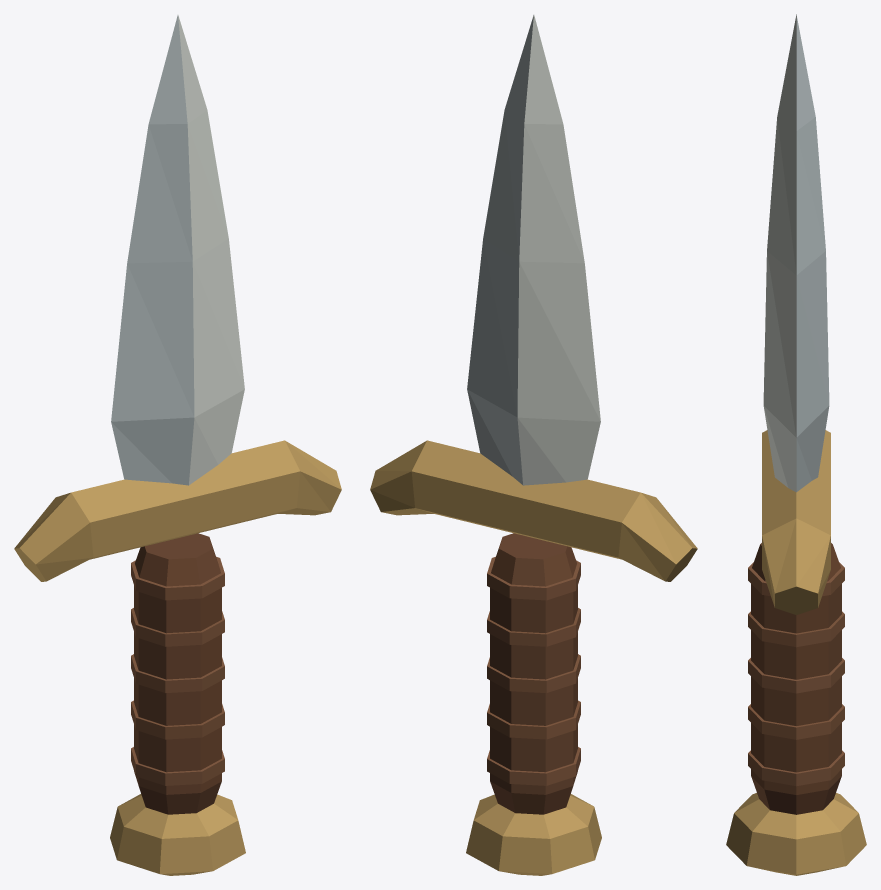
The model's file is weapon_sword_short.glb.
The picture shows the model from 3 angles, left to right: view 1: azimuth 30°, elevation 25°; view 2: azimuth 150°, elevation 25°; view 3: azimuth 270°, elevation 25°; orthographic projection.
Parts seen in each view (by area): view 1: weapon_sword_short; view 2: weapon_sword_short; view 3: weapon_sword_short.
Boxes of the visible parts, <box> form: weapon_sword_short: <box>14,15,341,875</box>; weapon_sword_short: <box>370,15,697,875</box>; weapon_sword_short: <box>726,14,866,875</box>.
Bounding box in the file's own units: 0.322 × 0.825 × 0.124.
